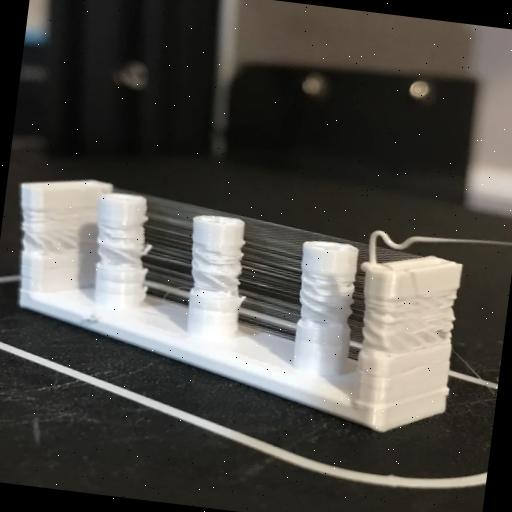stringing: (110, 185, 431, 360)
